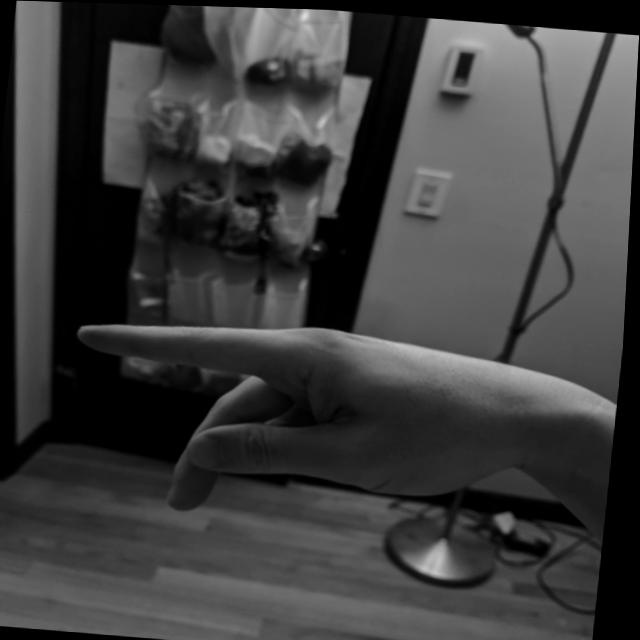P: (54, 296, 542, 543)
